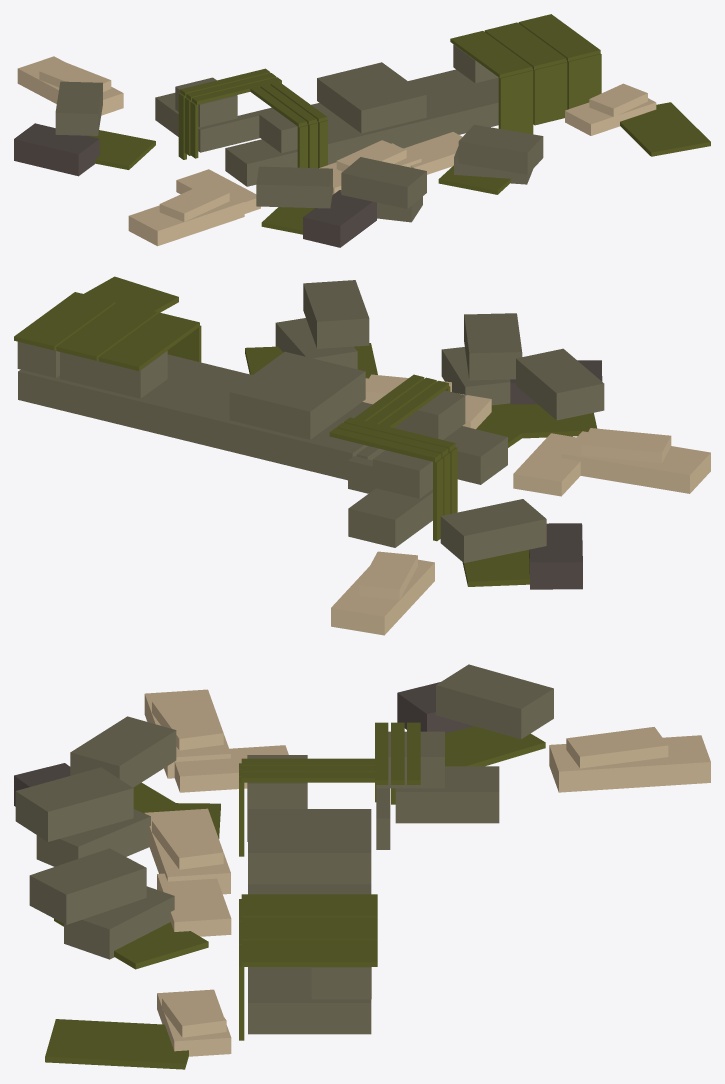
The model's file is SM_SacosRemate_v4_Red_e2_MuyDanado_LOD1.fbx.
3 views of the same model, one above another, from view 1: azimuth 30°, elevation 25°; view 2: azimuth 150°, elevation 25°; view 3: azimuth 270°, elevation 25° (orthographic). The views are drawn at different scales.
Visible parts, largest first — view 1: SM_sacos_piezas_v38_LOD1; view 2: SM_sacos_piezas_v38_LOD1; view 3: SM_sacos_piezas_v38_LOD1.
Boxes of the visible parts, x1,y1,x2,y2 form: SM_sacos_piezas_v38_LOD1: (14,14,710,247); SM_sacos_piezas_v38_LOD1: (14,276,710,635); SM_sacos_piezas_v38_LOD1: (14,664,710,1069).
Bounding box in the file's own units: 6.82 × 0.7939 × 5.44.
